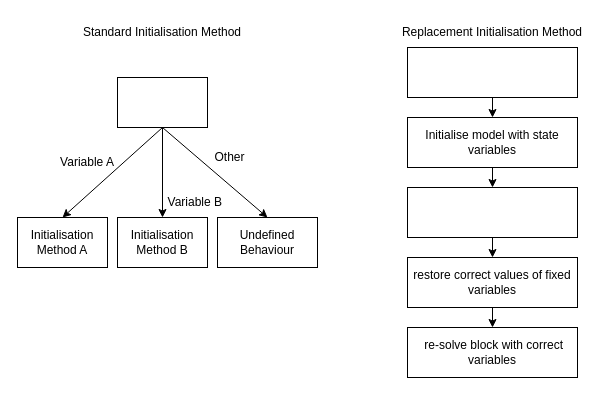
Some shapes in this 610 by 395 pixel diagram are drawn without their labels. The shapes that lost their labels are listed below. From the top down, each one's box as (x1, y1, x2, y2) in pixels, then its label:
(406, 46, 578, 98): Store values of fixed variables
(116, 76, 208, 128): Check which variables are fixed
(406, 186, 578, 238): Unfix state variables that are "guesses", fix the variables that "replace" them
